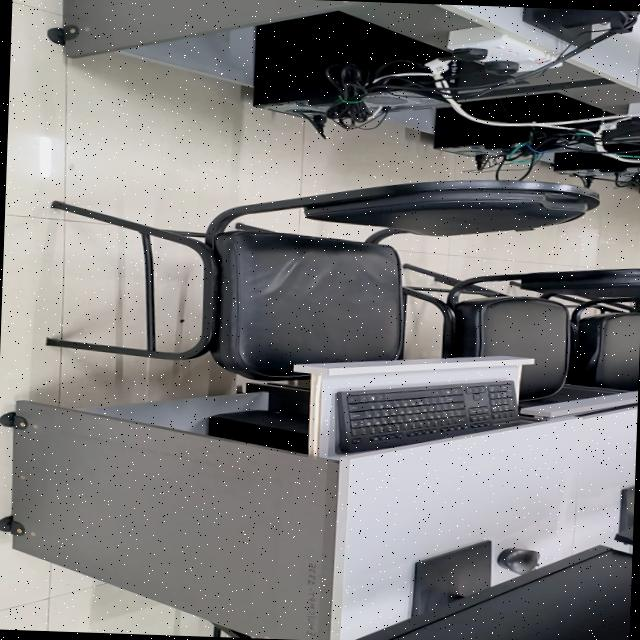Chair: (46, 180, 598, 380), (403, 264, 640, 400), (566, 312, 640, 390)
Cpu: (251, 11, 464, 123), (436, 91, 604, 162), (205, 411, 306, 453), (556, 152, 640, 179)
Keyboard: (337, 381, 518, 451)
Monitor: (354, 542, 632, 640), (614, 486, 634, 546)
